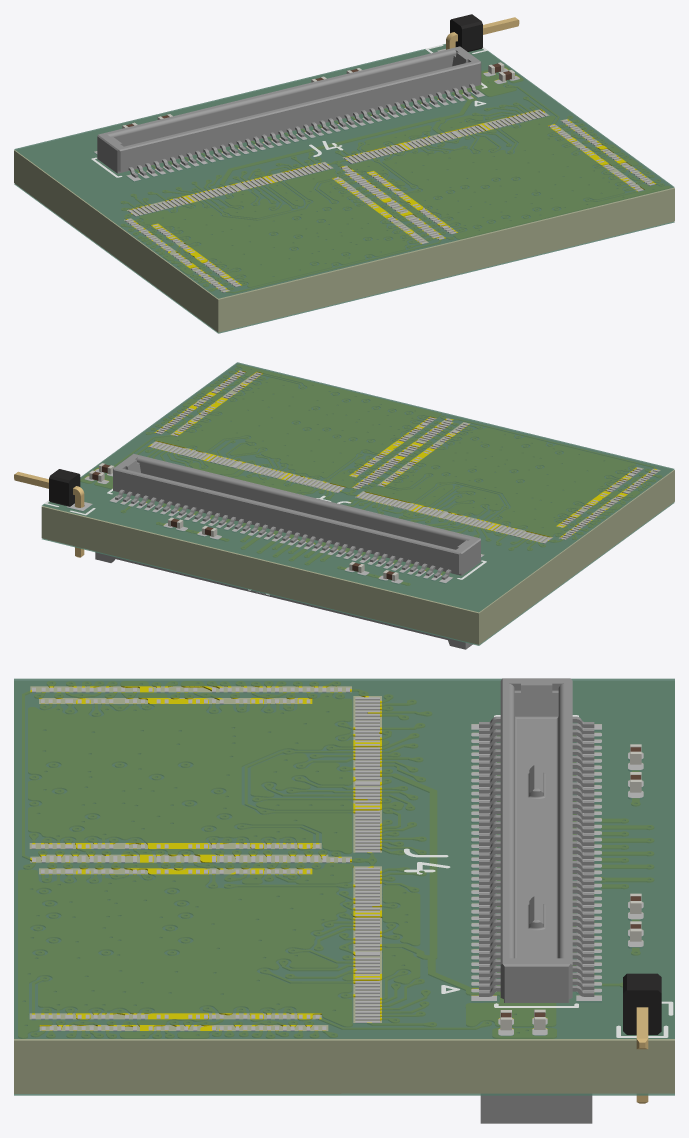
The model's file is asic-bottom-v4.glb.
The picture shows the model from 3 angles, top to bottom: view 1: azimuth 30°, elevation 25°; view 2: azimuth 150°, elevation 25°; view 3: azimuth 270°, elevation 25°; orthographic projection. The views are drawn at different scales.
Visible parts, largest first — view 1: =>[0:1:1:15], =>[0:1:1:17], =>[0:1:1:10], =>[0:1:1:5], =>[0:1:1:11], =>[0:1:1:7], =>[0:1:1:16]; view 2: =>[0:1:1:15], =>[0:1:1:17], =>[0:1:1:10], =>[0:1:1:5], =>[0:1:1:11], =>[0:1:1:7], =>[0:1:1:9], =>[0:1:1:16]; view 3: =>[0:1:1:15], =>[0:1:1:10], =>[0:1:1:17], =>[0:1:1:5], =>[0:1:1:11], =>[0:1:1:9], =>[0:1:1:7], =>[0:1:1:16], =>[0:1:1:12], =>[0:1:1:13].
Part boxes in pixels (bbox=[...]): =>[0:1:1:15]: bbox=[14, 44, 674, 298]; =>[0:1:1:17]: bbox=[14, 45, 674, 332]; =>[0:1:1:10]: bbox=[121, 67, 669, 292]; =>[0:1:1:5]: bbox=[97, 46, 481, 177]; =>[0:1:1:11]: bbox=[94, 49, 654, 292]; =>[0:1:1:7]: bbox=[446, 14, 519, 51]; =>[0:1:1:16]: bbox=[14, 184, 674, 333]; =>[0:1:1:15]: bbox=[42, 362, 674, 612]; =>[0:1:1:17]: bbox=[41, 364, 674, 644]; =>[0:1:1:10]: bbox=[81, 365, 661, 585]; =>[0:1:1:5]: bbox=[113, 453, 480, 579]; =>[0:1:1:11]: bbox=[67, 371, 659, 583]; =>[0:1:1:7]: bbox=[14, 469, 84, 557]; =>[0:1:1:9]: bbox=[95, 552, 472, 649]; =>[0:1:1:16]: bbox=[42, 502, 674, 645]; =>[0:1:1:15]: bbox=[14, 678, 674, 1038]; =>[0:1:1:10]: bbox=[18, 681, 653, 1038]; =>[0:1:1:17]: bbox=[14, 681, 674, 1093]; =>[0:1:1:5]: bbox=[479, 678, 594, 1002]; =>[0:1:1:11]: bbox=[31, 687, 643, 1035]; =>[0:1:1:9]: bbox=[480, 1094, 592, 1123]; =>[0:1:1:7]: bbox=[623, 973, 661, 1103]; =>[0:1:1:16]: bbox=[14, 1093, 674, 1095]; =>[0:1:1:12]: bbox=[22, 682, 651, 1035]; =>[0:1:1:13]: bbox=[404, 715, 673, 1037].
Size of the model in its own units: 0.0238 by 0.0044 by 0.017.
